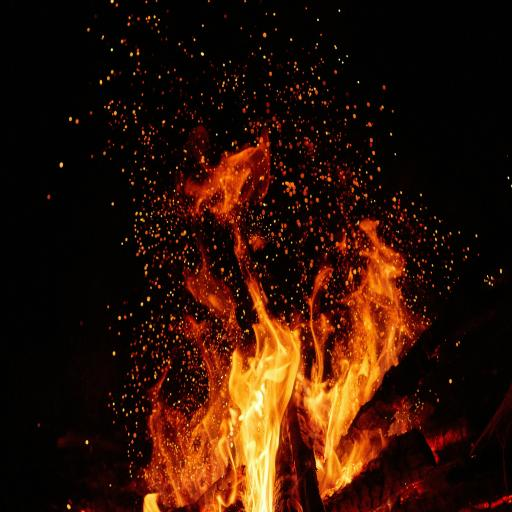campfire: (2, 4, 512, 512)
